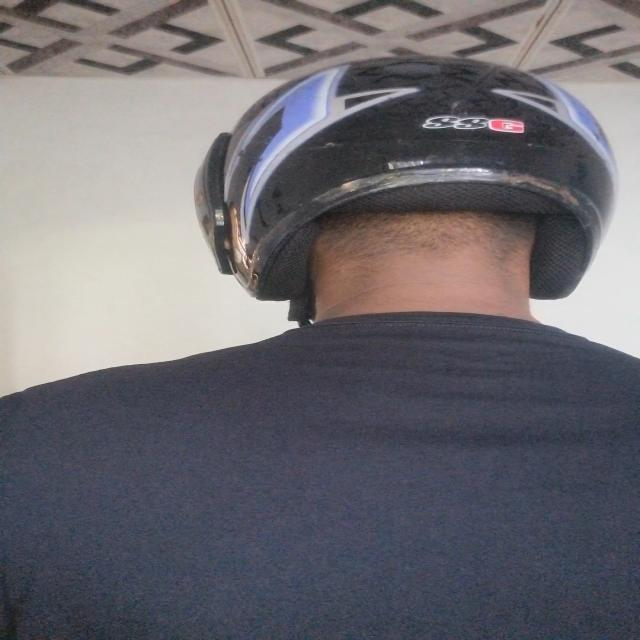Helmet_Wearer: (176, 25, 640, 426)
Person: (4, 46, 640, 640)
